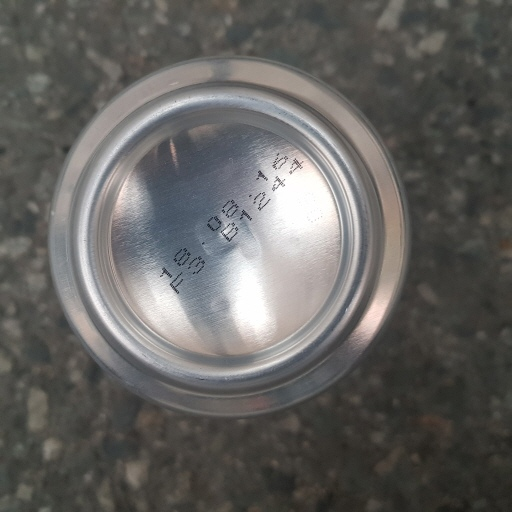Metal_0: (42, 55, 413, 423)
